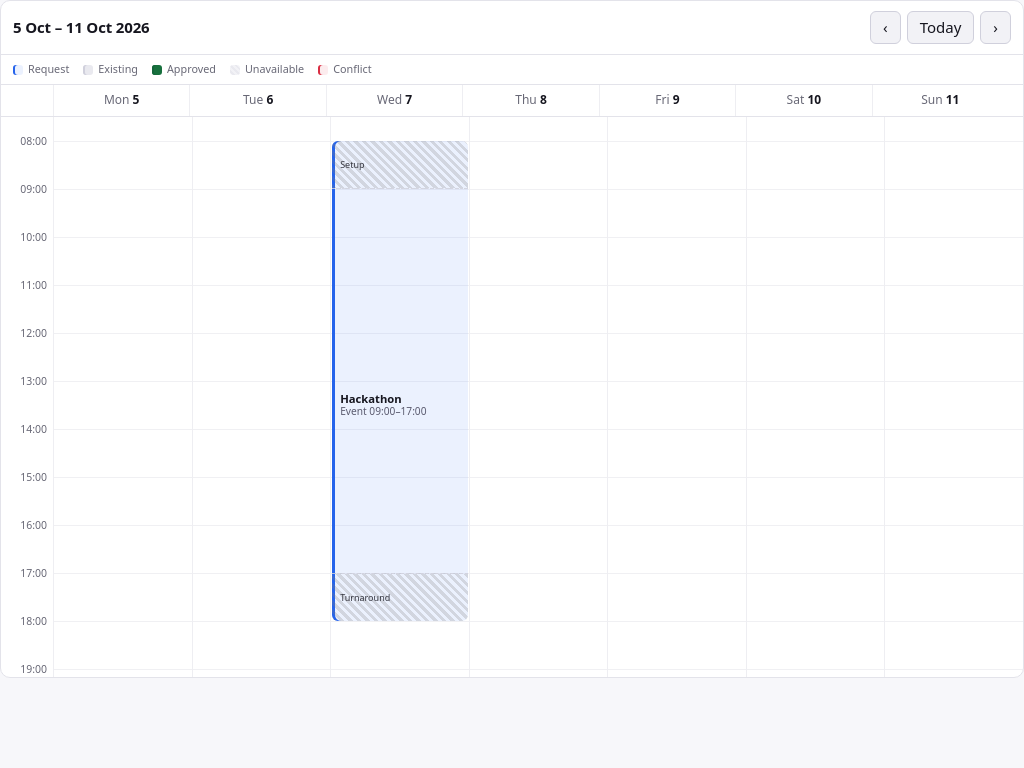
Test: BookingCalendar › navigates weeks
The width and height of the screenshot is (1024, 768).
(page scrolled)
Click the button named "Next week" at coordinates (996, 28), box left=980, top=11, right=1011, bottom=44
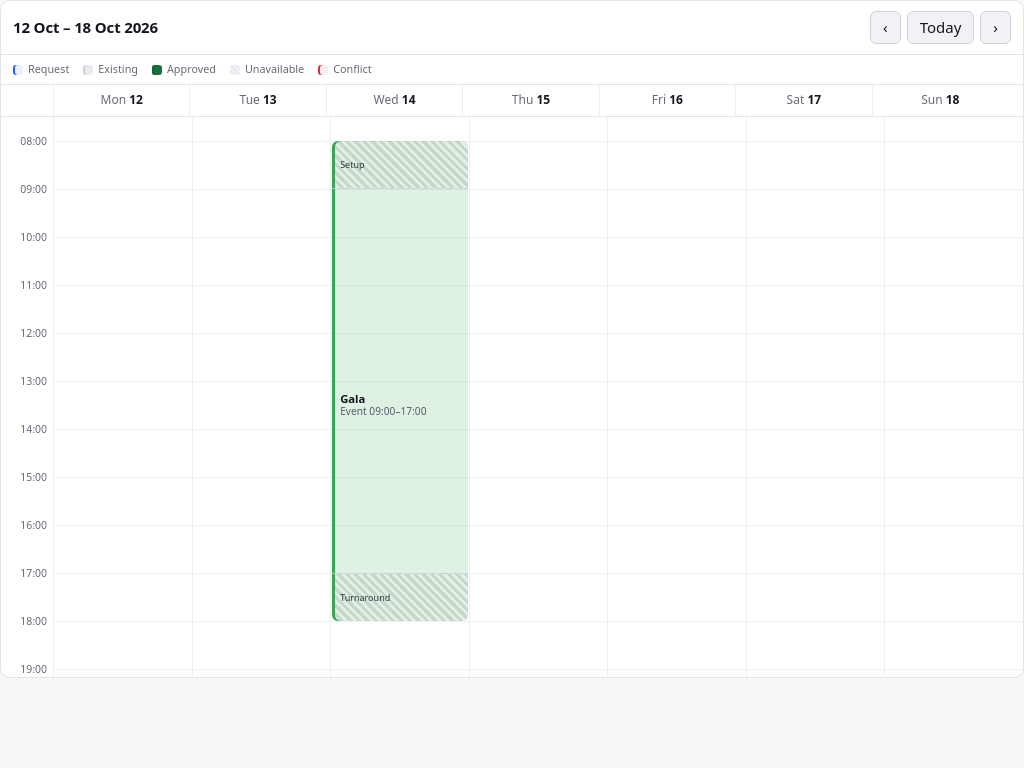
Now the text "Gala" is shown, box left=340, top=391, right=365, bottom=406
Now the button "Hackathon" is gone
Click the button named "Previous week" at coordinates (885, 28), box left=870, top=11, right=901, bottom=44
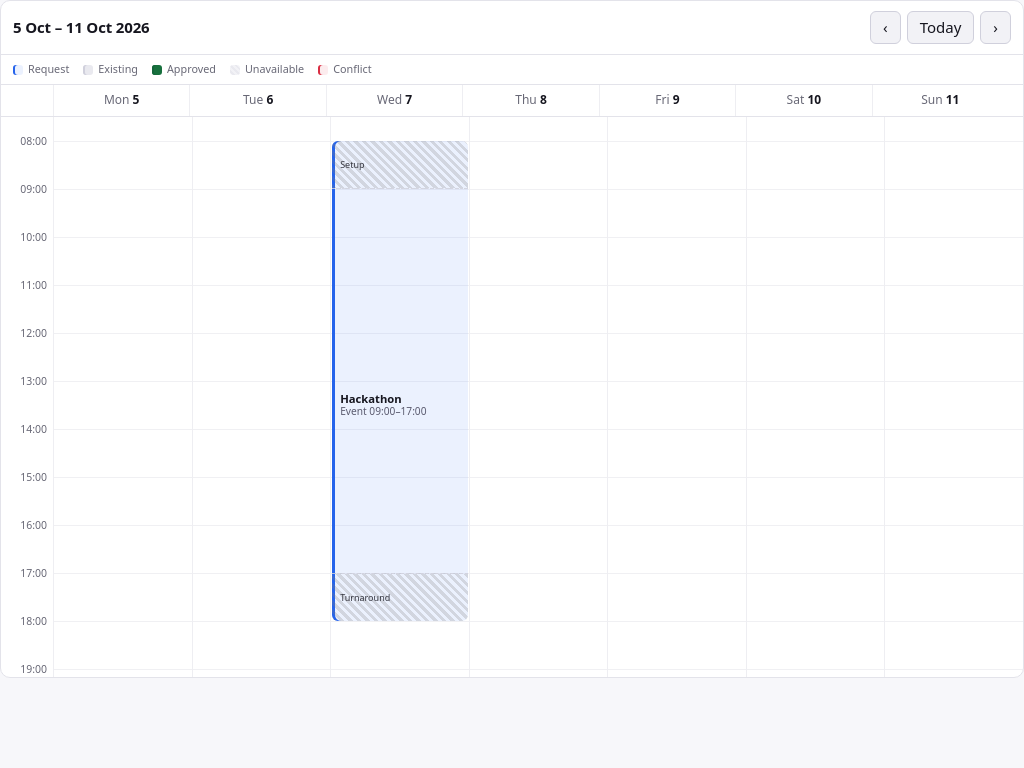
Now the text "Hackathon" is shown, box left=340, top=391, right=402, bottom=406
